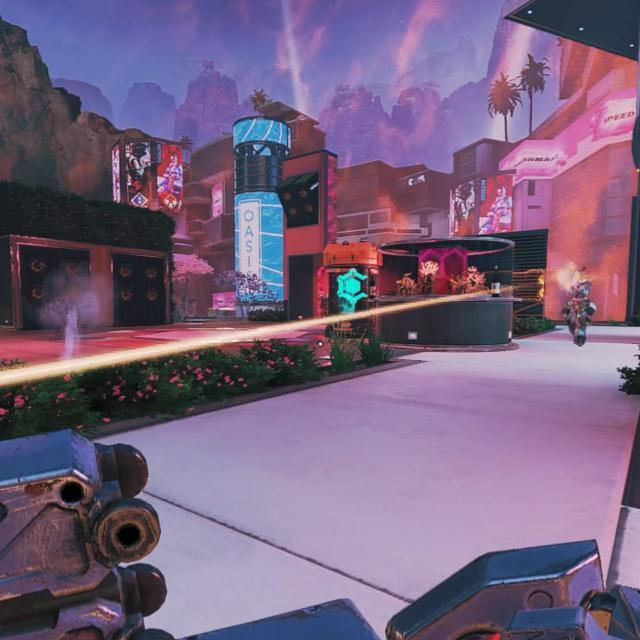avatar: (561, 265, 598, 351)
